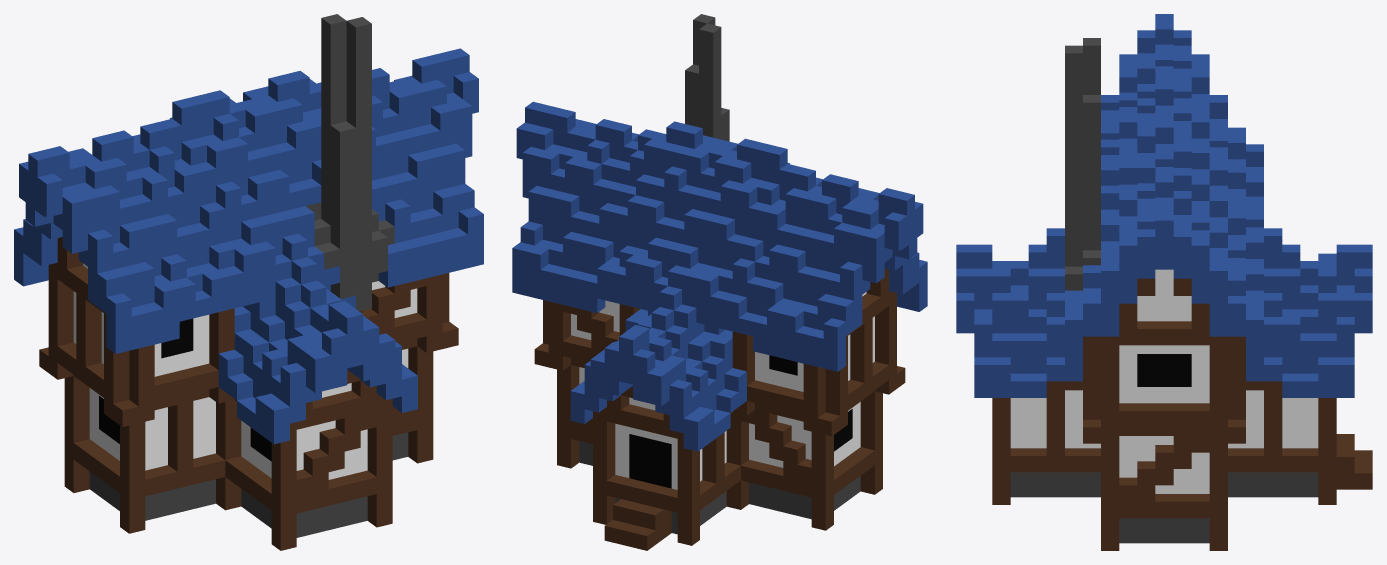
Rendered from house02.fbx.
The picture shows the model from 3 angles, left to right: view 1: azimuth 30°, elevation 25°; view 2: azimuth 150°, elevation 25°; view 3: azimuth 270°, elevation 25°; orthographic projection. The views are drawn at different scales.
Parts seen in each view (by area): view 1: house1-3; view 2: house1-3; view 3: house1-3.
Boxes of the visible parts, x1=… form: house1-3: x1=14, y1=14, x2=483, y2=550; house1-3: x1=512, y1=14, x2=927, y2=550; house1-3: x1=956, y1=14, x2=1372, y2=550.
Bounding box in the file's own units: 2700 × 2800 × 2300.
